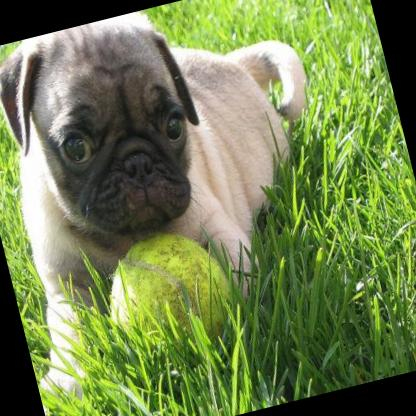pug: (0, 0, 367, 411)
